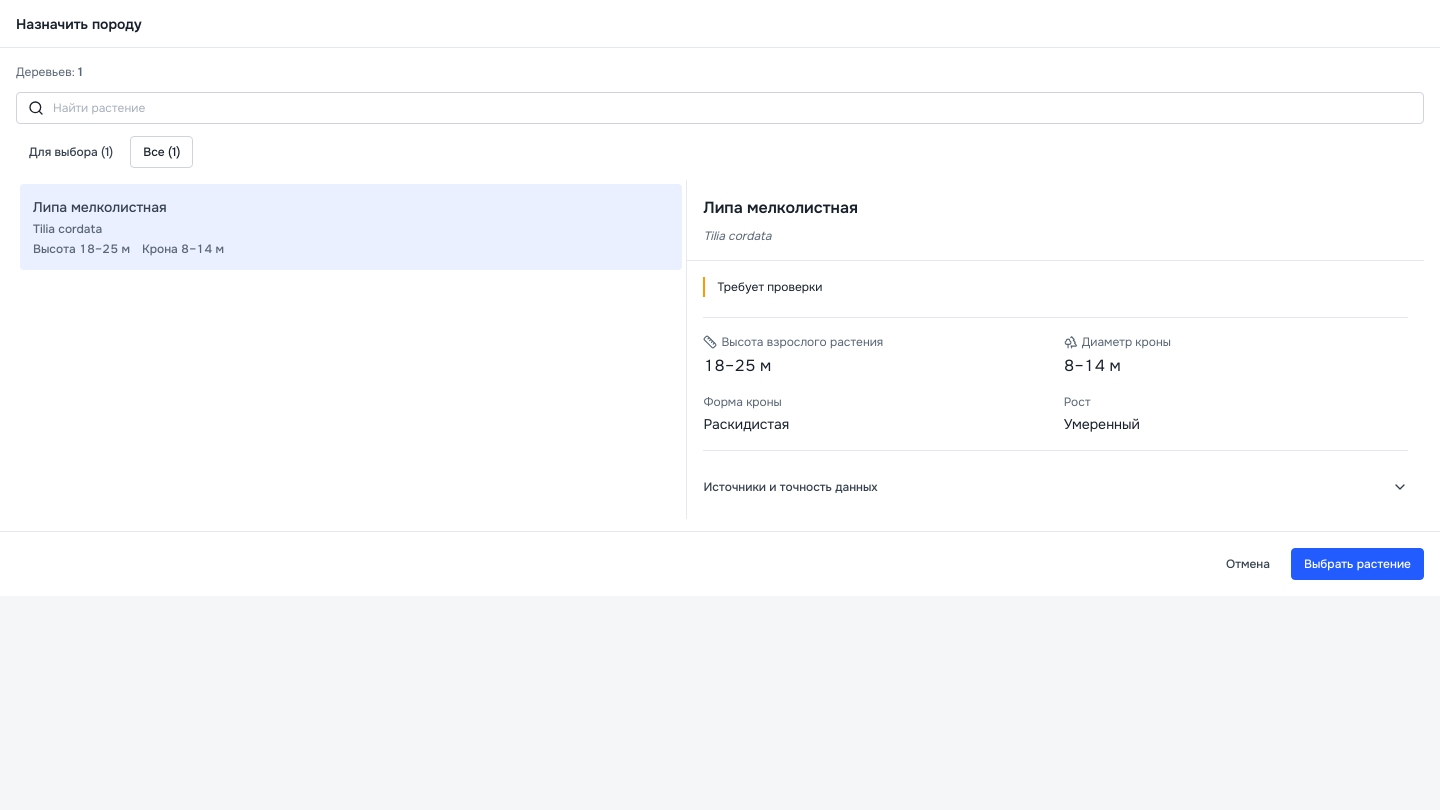
Test case: SpeciesAssignmentPanel › shows authoritative review conditions before collapsed dimensions and keeps source evidence accessible
The image size is (1440, 810).
Click the button with aria-label "Сведения: Липа мелколистная".
click(100, 207)  # box [20,184,682,270]
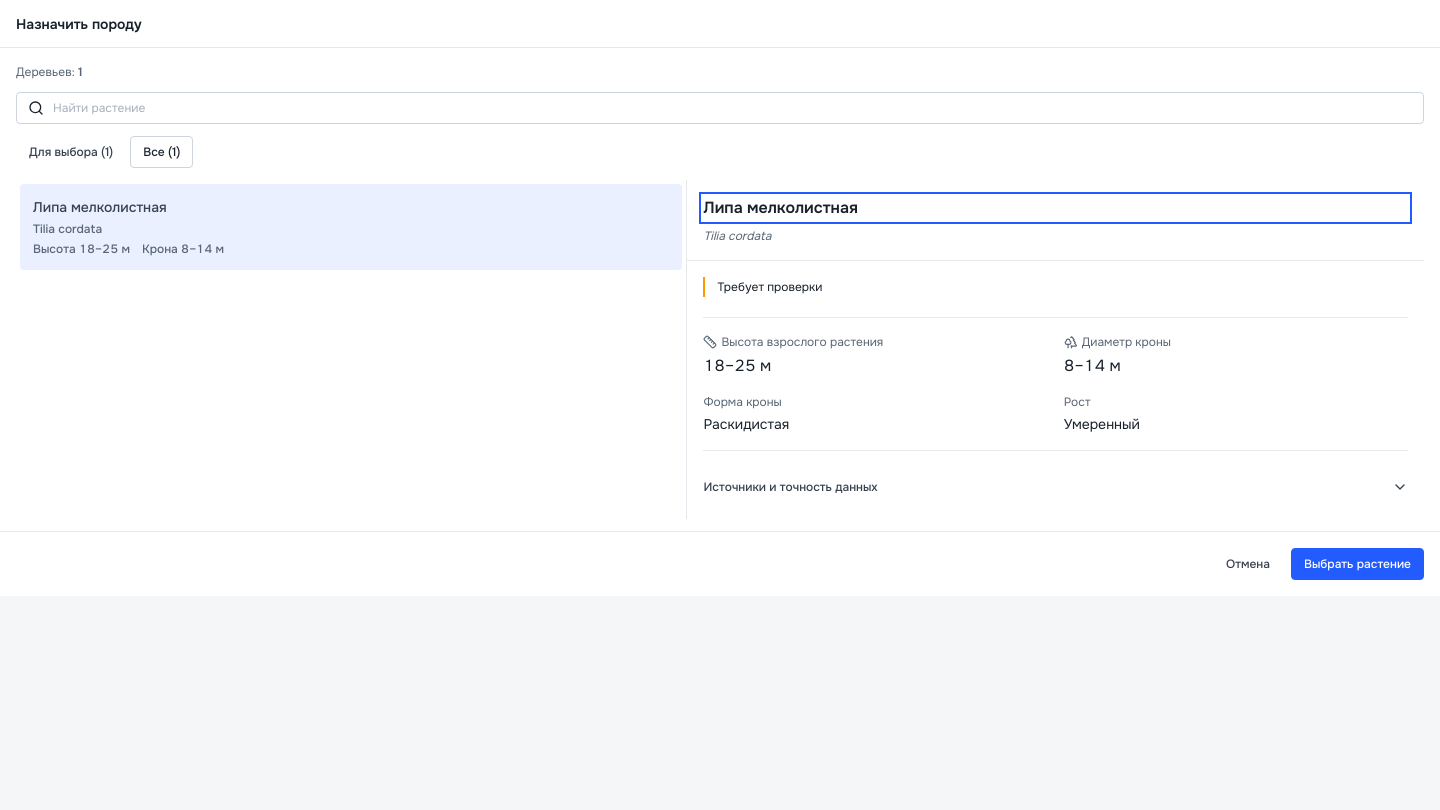
Click the button "Выбрать растение".
click(1358, 564)  # box [1291,548,1424,580]
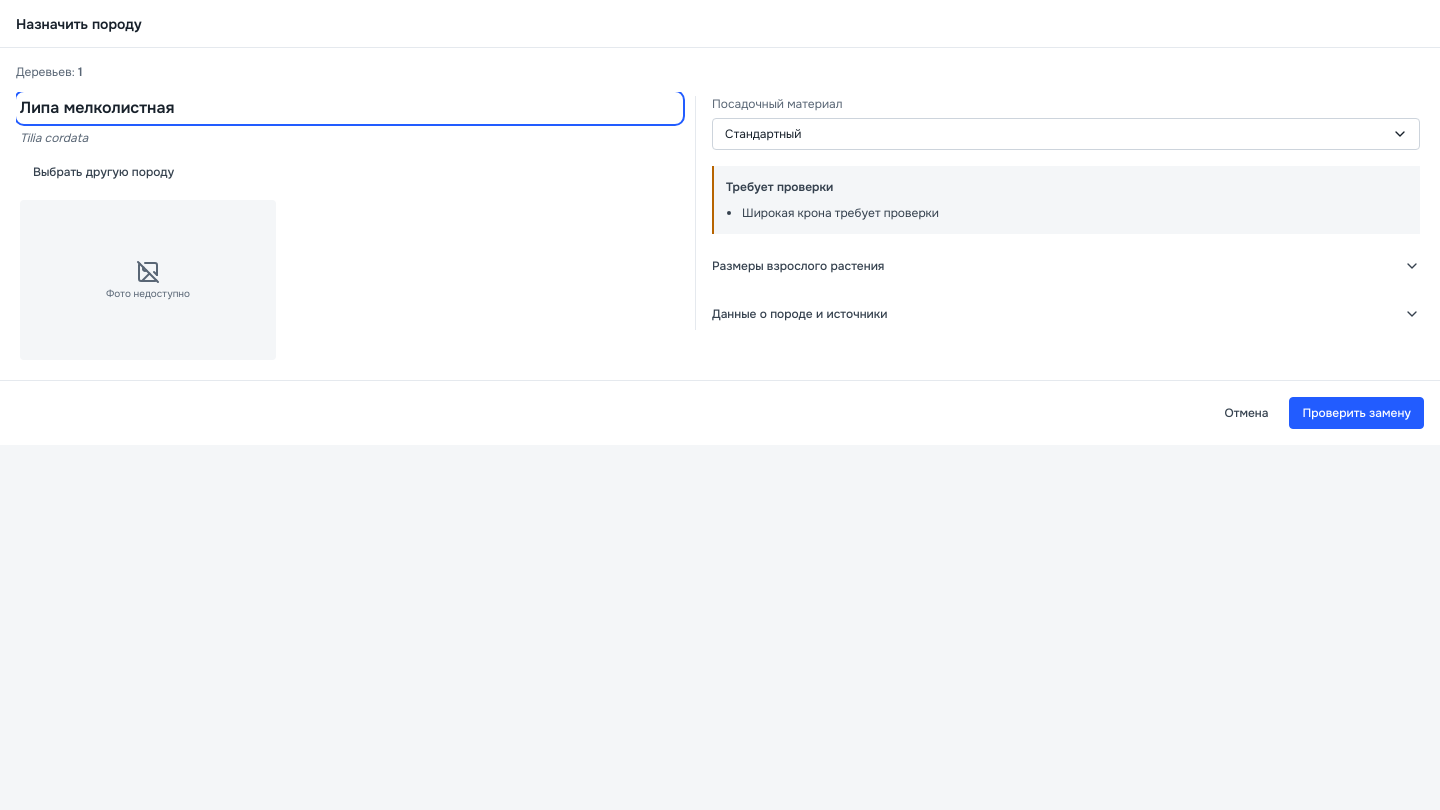
Result: the text "Требует проверки" is shown at [726,179,833,195]
Result: the list item "Широкая крона требует проверки" is shown at [742,204,939,222]
Result: the button "Проверить замену" is shown at [1290,397,1424,429]
Click the button "Данные о породе и источники".
click(800, 314)  # box [712,298,1420,330]
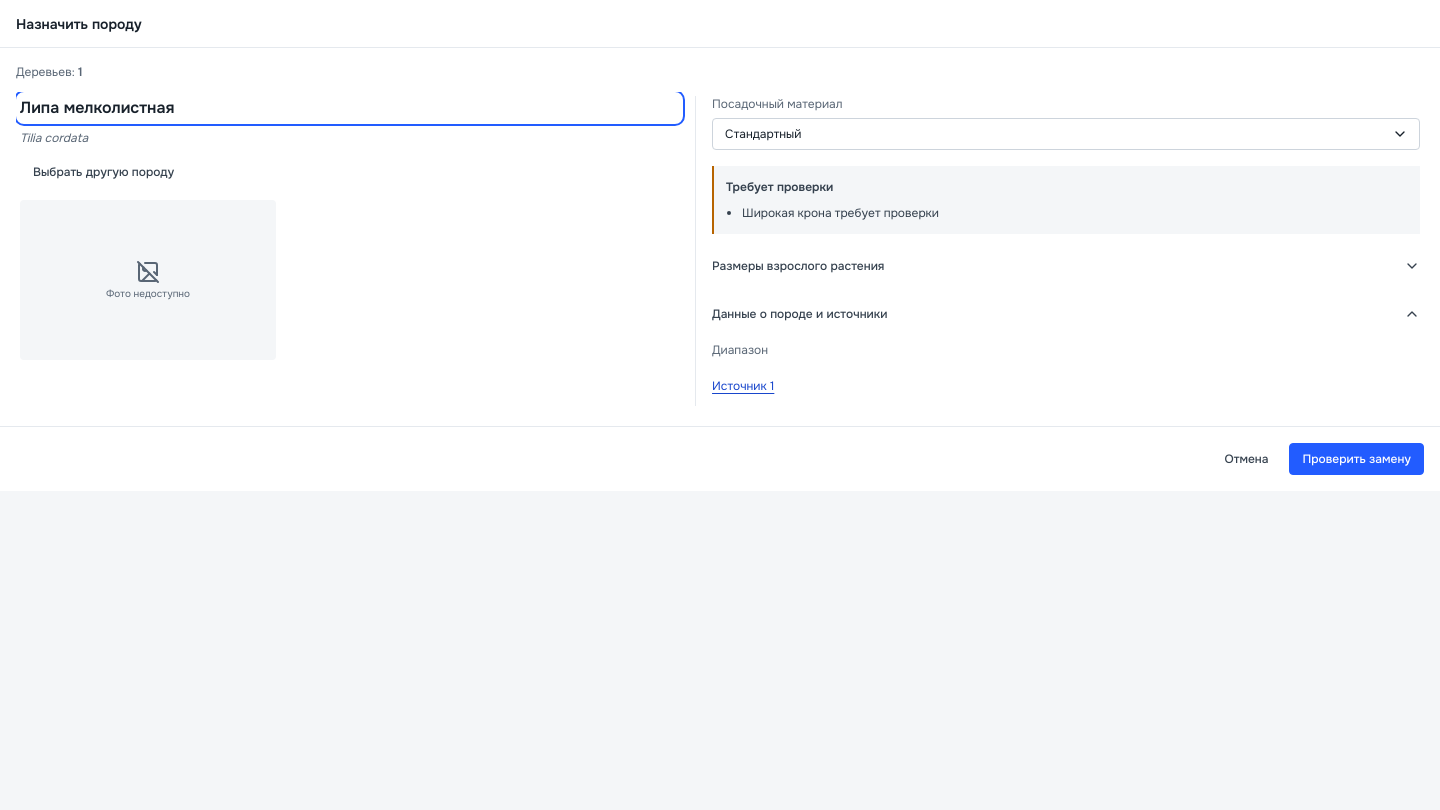
Result: the text "Диапазон" is shown at [712,342,768,358]
